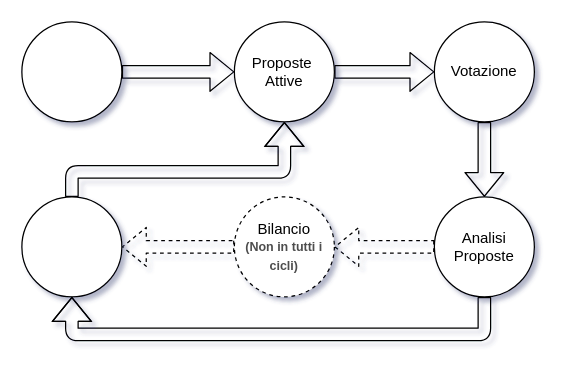
Some shapes in this 564 by 370 pixel diagram are drawn without their labels. Here are the shapes that lost their labels. From the top down, the centre of each, then its label:
At (71,71): "Introduzione".
At (71,246): "Risultato".
